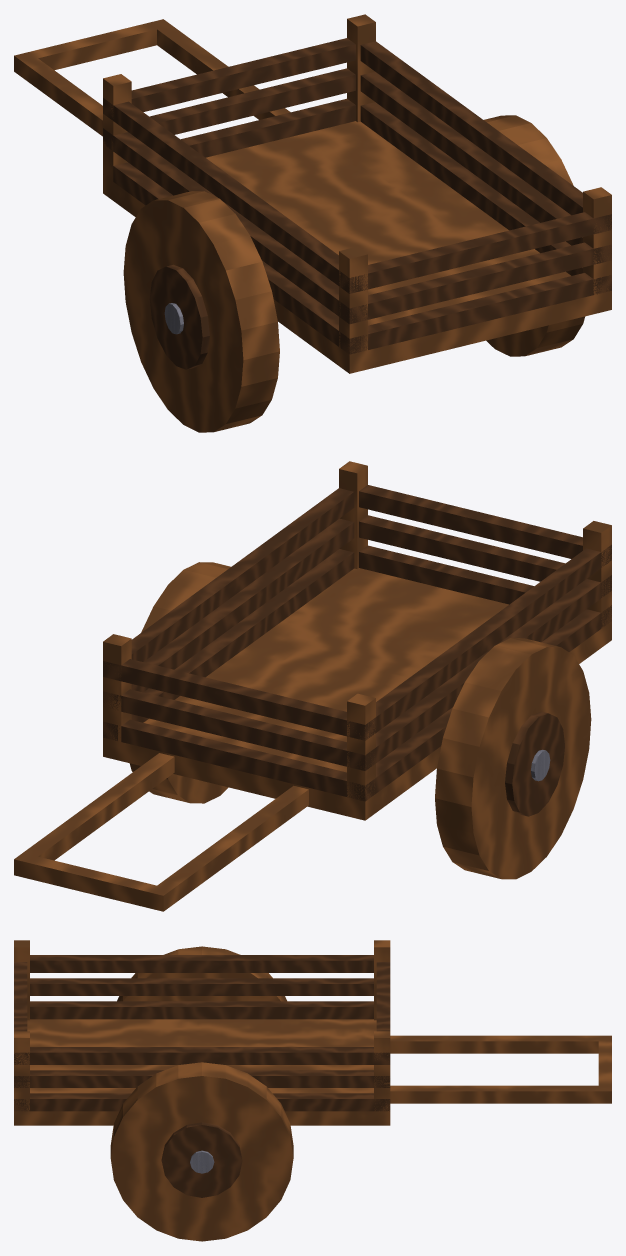
The model's file is holzwagen_t1.fbx.
3 views of the same model, one above another, from view 1: azimuth 30°, elevation 25°; view 2: azimuth 150°, elevation 25°; view 3: azimuth 270°, elevation 25° (orthographic). The views are drawn at different scales.
Visible parts, largest first — view 1: Holzwagen_T1; view 2: Holzwagen_T1; view 3: Holzwagen_T1.
Boxes of the visible parts, x1=… form: Holzwagen_T1: x1=14, y1=14, x2=611, y2=432; Holzwagen_T1: x1=14, y1=461, x2=611, y2=911; Holzwagen_T1: x1=14, y1=940, x2=611, y2=1241.
Bounding box in the file's own units: 121 × 77 × 222.
